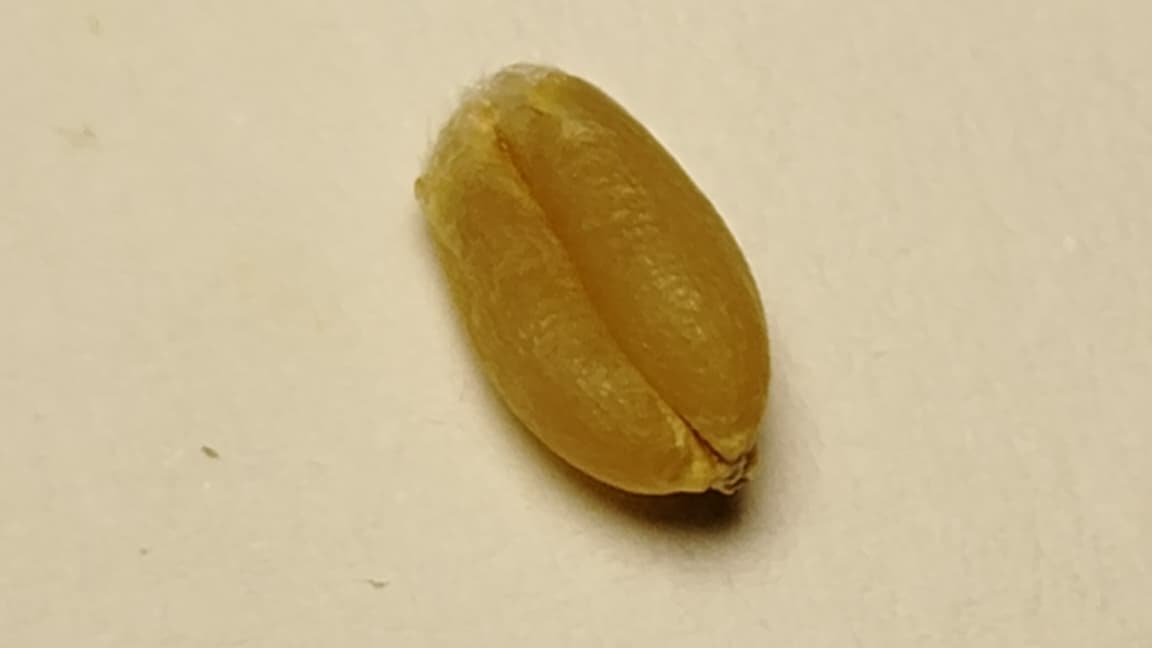healthy: (417, 64, 768, 492)
